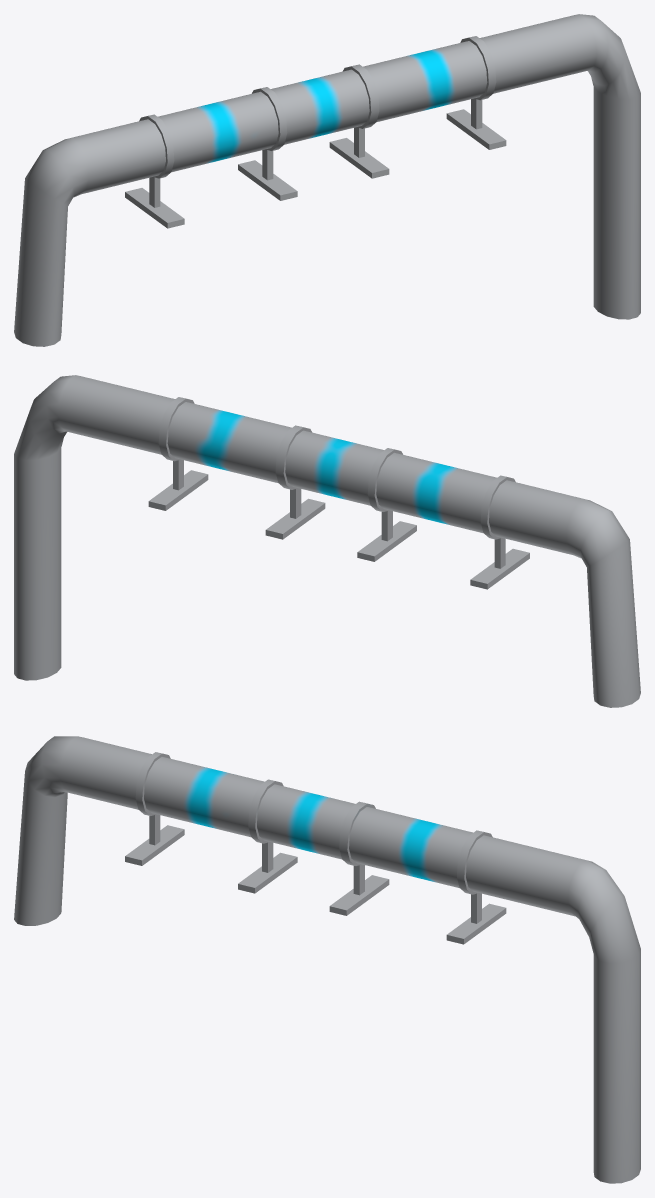
Rendered from tuyau.fbx.
The picture shows the model from 3 angles, top to bottom: view 1: azimuth 30°, elevation 25°; view 2: azimuth 150°, elevation 25°; view 3: azimuth 330°, elevation 25°; orthographic projection.
Visible parts, largest first — view 1: tuyau1; view 2: tuyau1; view 3: tuyau1.
Part boxes in pixels (left/top/right/bottom): tuyau1: left=14, top=14, right=640, bottom=346; tuyau1: left=14, top=375, right=640, bottom=707; tuyau1: left=14, top=736, right=640, bottom=1183.
Bounding box in the file's own units: 566 × 267 × 67.64.
1 material, 1 textured.
